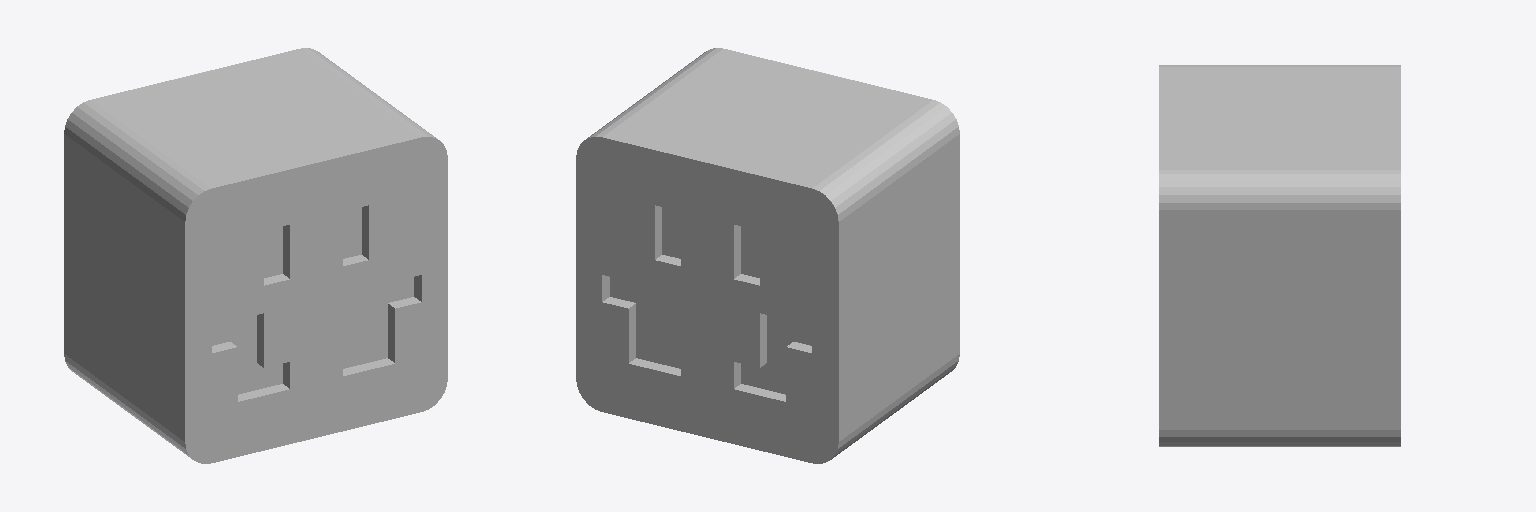
Rendered from wall.obj.
3 renders of one model, left to right at view 1: azimuth 30°, elevation 25°; view 2: azimuth 150°, elevation 25°; view 3: azimuth 270°, elevation 25°, orthographic.
Size of the model in its own units: 10 by 10 by 8.